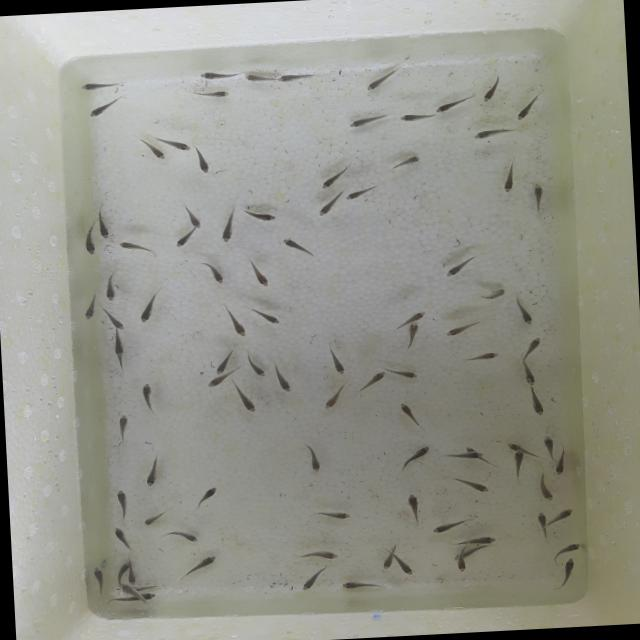fingerling: (173, 550, 224, 582), (278, 233, 320, 265), (364, 64, 406, 94), (86, 93, 128, 123), (449, 472, 494, 500), (514, 89, 550, 122), (396, 443, 434, 472), (468, 124, 523, 144), (318, 160, 354, 190), (136, 379, 162, 420), (136, 288, 165, 324), (442, 252, 482, 278), (114, 238, 160, 260), (441, 317, 484, 340), (222, 305, 250, 340), (269, 361, 297, 396), (217, 206, 242, 244), (141, 451, 166, 489), (309, 504, 356, 524), (436, 91, 475, 115), (248, 254, 274, 289), (556, 556, 581, 592), (298, 564, 328, 594), (396, 400, 424, 432), (295, 546, 342, 565), (322, 381, 351, 411), (326, 344, 350, 380), (479, 71, 505, 104), (250, 304, 284, 329), (430, 516, 472, 536), (498, 156, 520, 194), (512, 296, 538, 328), (184, 85, 232, 102), (403, 491, 425, 528), (301, 441, 324, 476), (161, 527, 201, 547), (348, 112, 390, 131), (234, 383, 258, 416), (459, 349, 503, 367), (192, 484, 220, 512), (243, 206, 280, 227), (200, 258, 229, 284), (198, 68, 245, 84), (359, 369, 389, 394), (80, 76, 124, 93), (112, 410, 134, 444), (523, 389, 548, 418), (102, 268, 122, 304), (113, 486, 133, 522), (528, 181, 549, 215), (95, 208, 116, 242), (388, 154, 427, 172), (110, 524, 135, 552), (395, 108, 436, 125), (338, 576, 383, 591), (520, 332, 544, 360), (277, 70, 318, 86), (316, 193, 342, 218), (344, 184, 378, 203), (140, 508, 172, 528), (536, 472, 556, 503), (245, 352, 267, 380), (456, 532, 500, 546), (104, 308, 129, 332), (392, 364, 422, 384), (192, 146, 212, 175), (91, 564, 108, 598), (82, 290, 100, 322), (552, 445, 570, 477), (550, 540, 582, 558), (81, 225, 98, 258), (479, 285, 508, 304), (244, 71, 277, 87), (406, 321, 422, 352), (184, 204, 203, 230), (164, 137, 192, 154), (512, 448, 526, 482), (439, 450, 486, 460), (552, 506, 578, 524), (540, 431, 554, 461), (205, 374, 231, 390), (521, 363, 538, 387), (113, 332, 127, 357), (173, 234, 194, 250), (406, 309, 430, 323), (398, 560, 416, 578), (148, 146, 168, 162), (452, 558, 472, 574), (534, 510, 552, 525), (379, 556, 395, 572), (120, 582, 134, 598), (214, 362, 228, 375), (502, 440, 520, 450), (142, 591, 158, 602), (118, 561, 132, 573), (128, 572, 138, 586)
